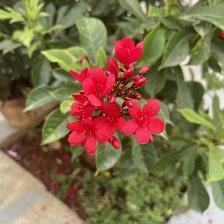jatropha: (123, 99, 168, 146), (67, 116, 115, 156), (83, 67, 119, 109)
